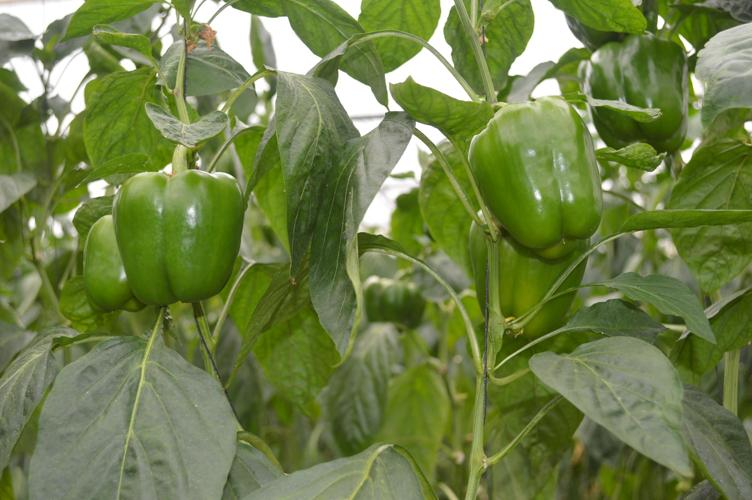BellPepper: (465, 95, 609, 261), (109, 159, 252, 312), (464, 201, 592, 351), (573, 29, 699, 157), (73, 212, 145, 326)
